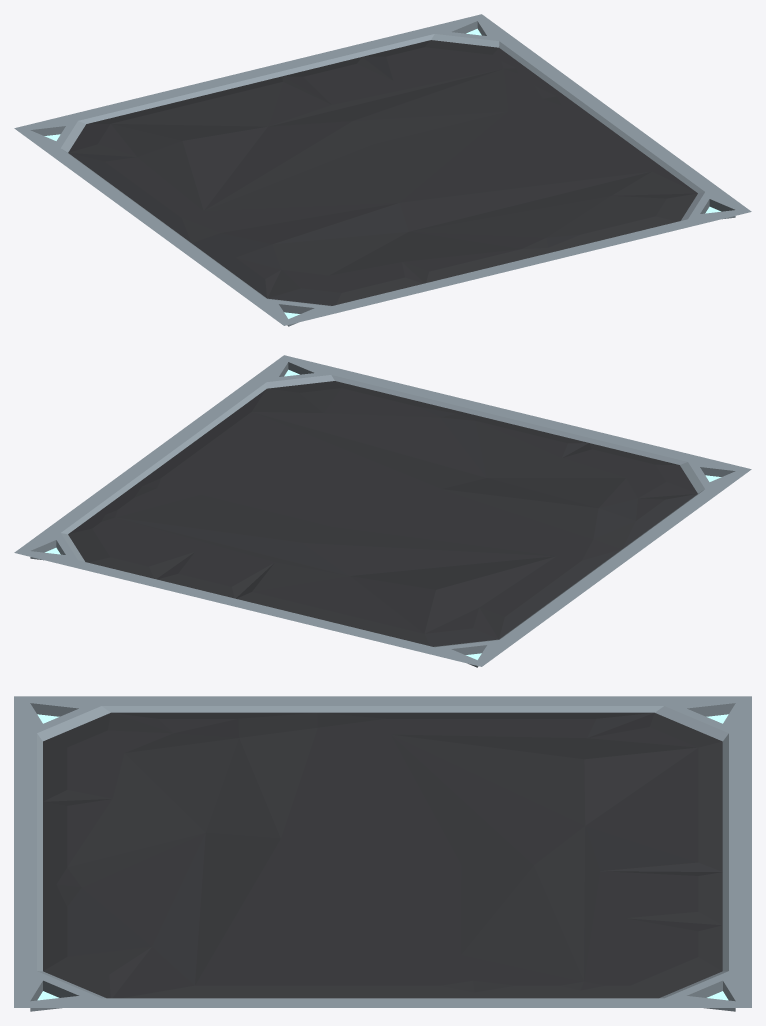
File: Floor_Large_Square.fbx
The picture shows the model from 3 angles, top to bottom: view 1: azimuth 30°, elevation 25°; view 2: azimuth 150°, elevation 25°; view 3: azimuth 270°, elevation 25°; orthographic projection. The views are drawn at different scales.
Parts seen in each view (by area): view 1: Floor_Large_Square; view 2: Floor_Large_Square; view 3: Floor_Large_Square.
Part boxes in pixels (box(x1,y1,x2,y2)): Floor_Large_Square: box(14, 14, 751, 326); Floor_Large_Square: box(14, 355, 751, 667); Floor_Large_Square: box(14, 696, 751, 1011).
Bounding box in the file's own units: 16 × 0.4499 × 16.
